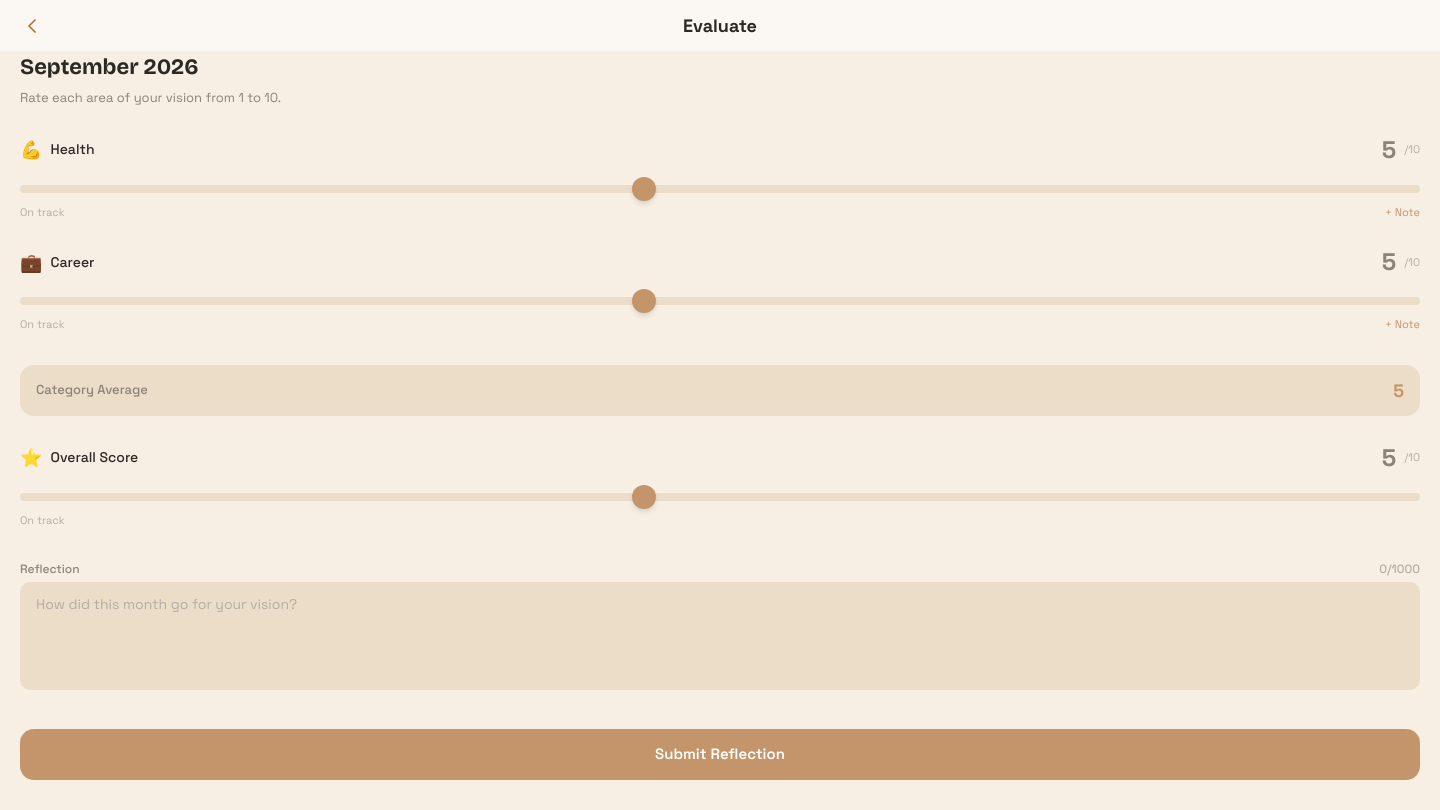
Test: EvaluatePage › updates category score when slider changes
Set the slider with test id "slider-input-health" to "9": (1258, 188) [20,184,1420,192]
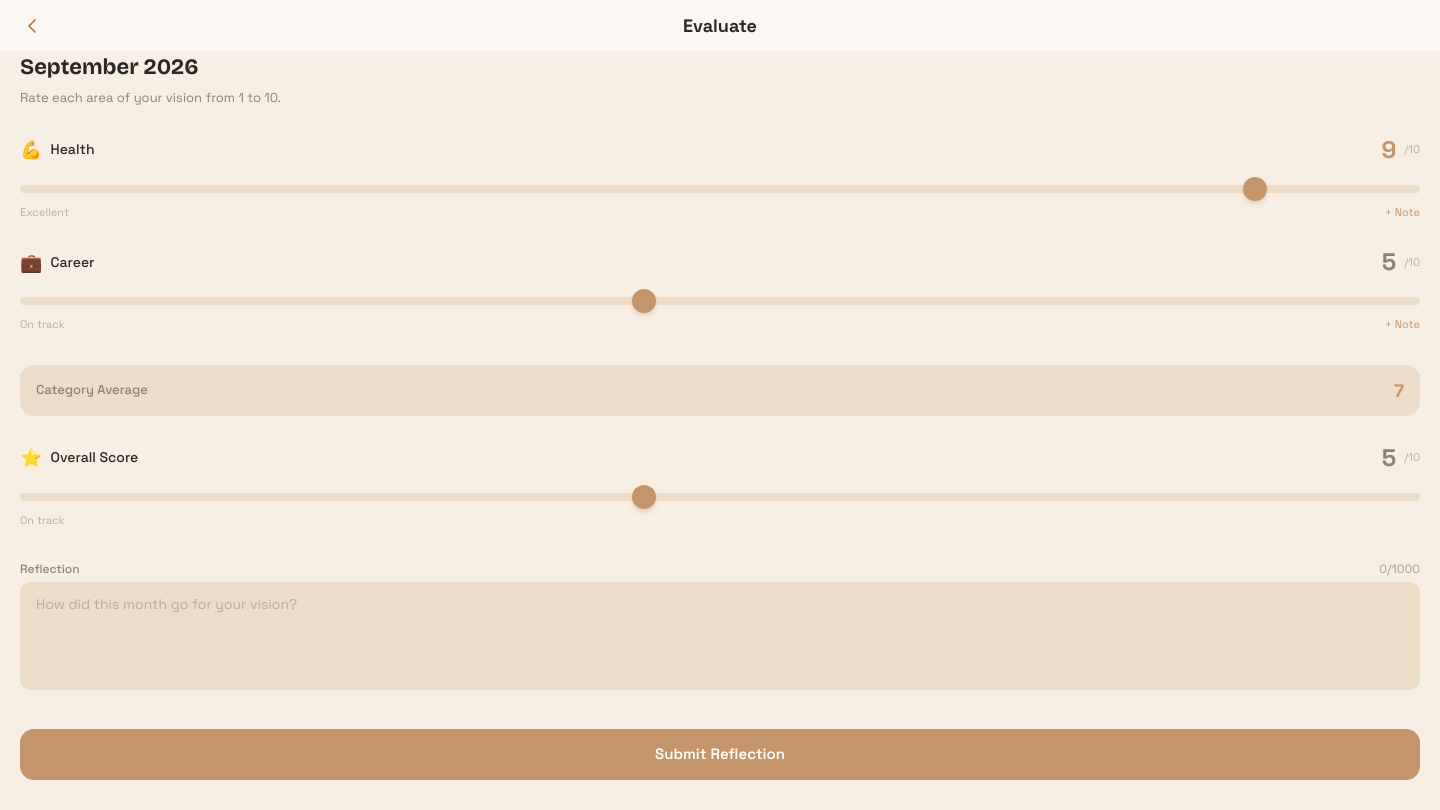
Check: the element with test id "eval-slider-health" shows "9", box [1381,134,1396,164]
